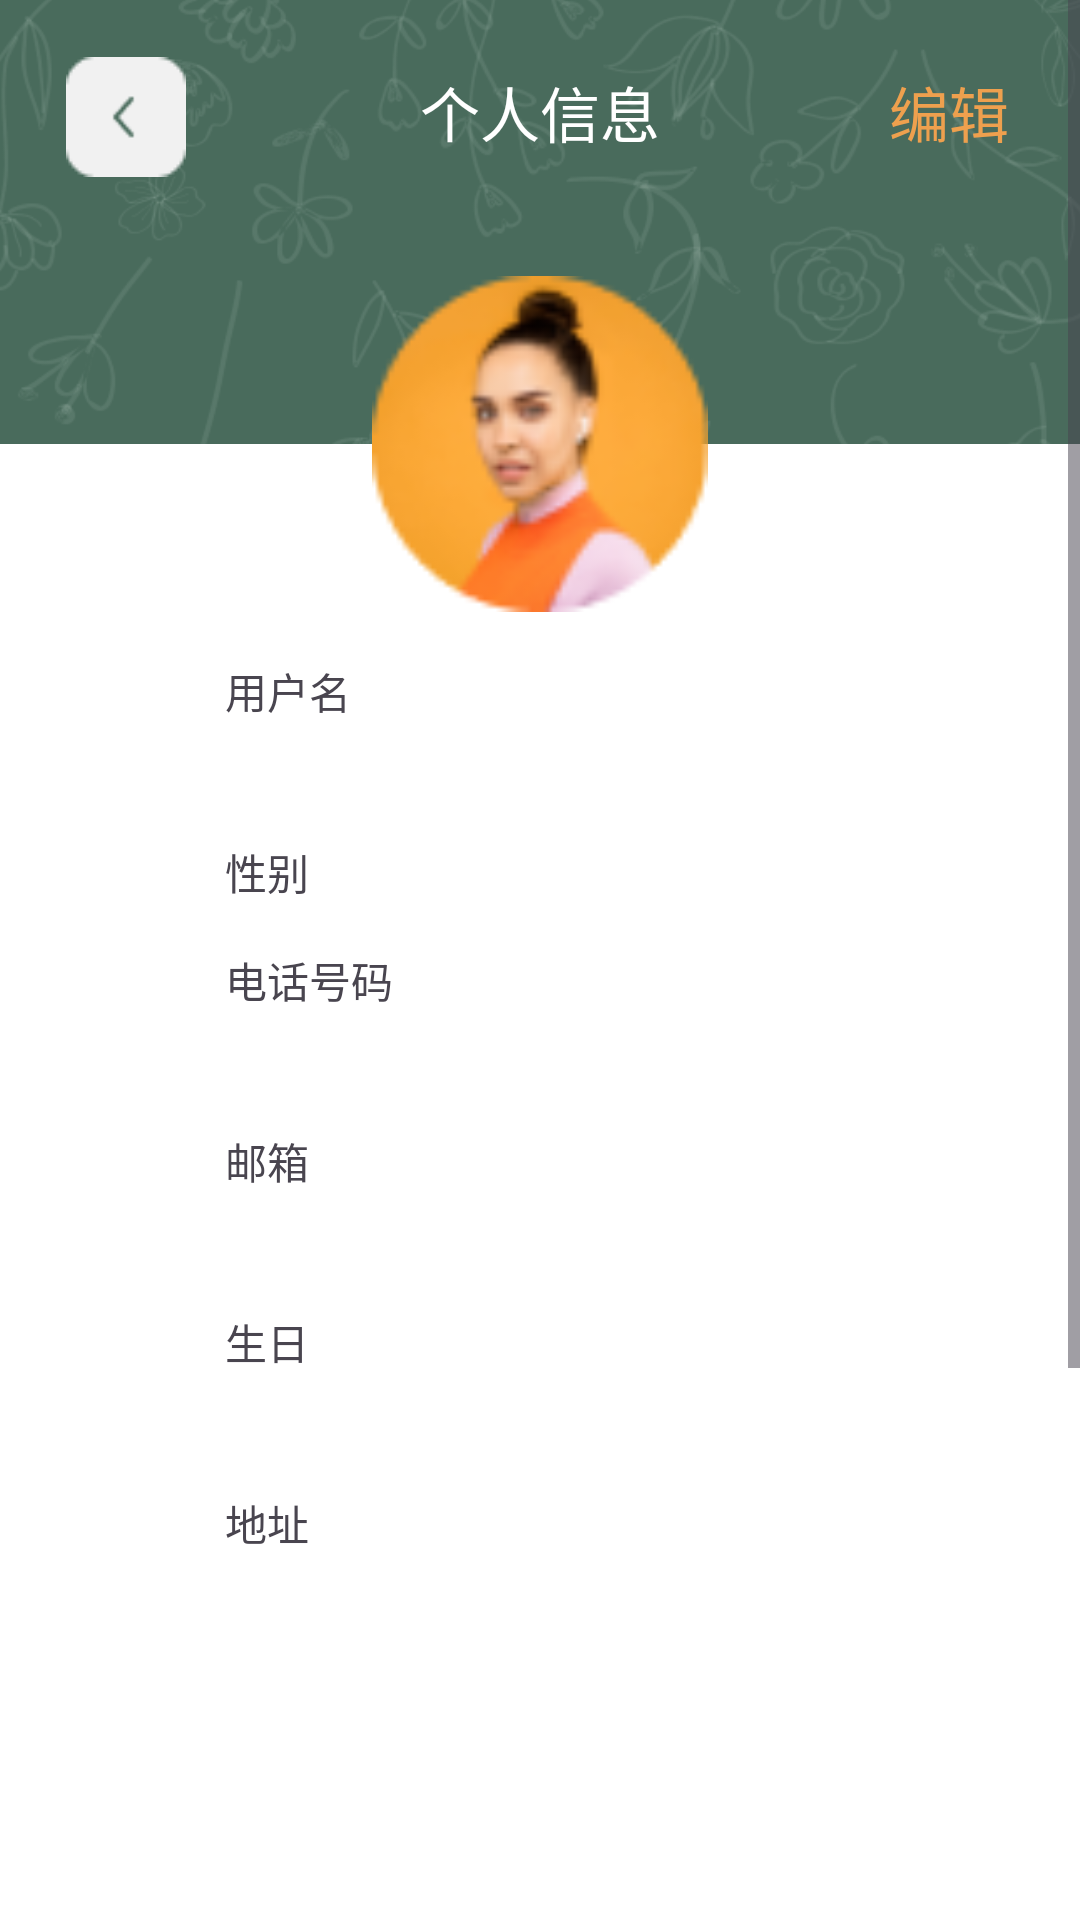

Named icons in this screenshot (1080*1920) and their centers, (x,y):
back: (123,117)
personimage: (540,444)
